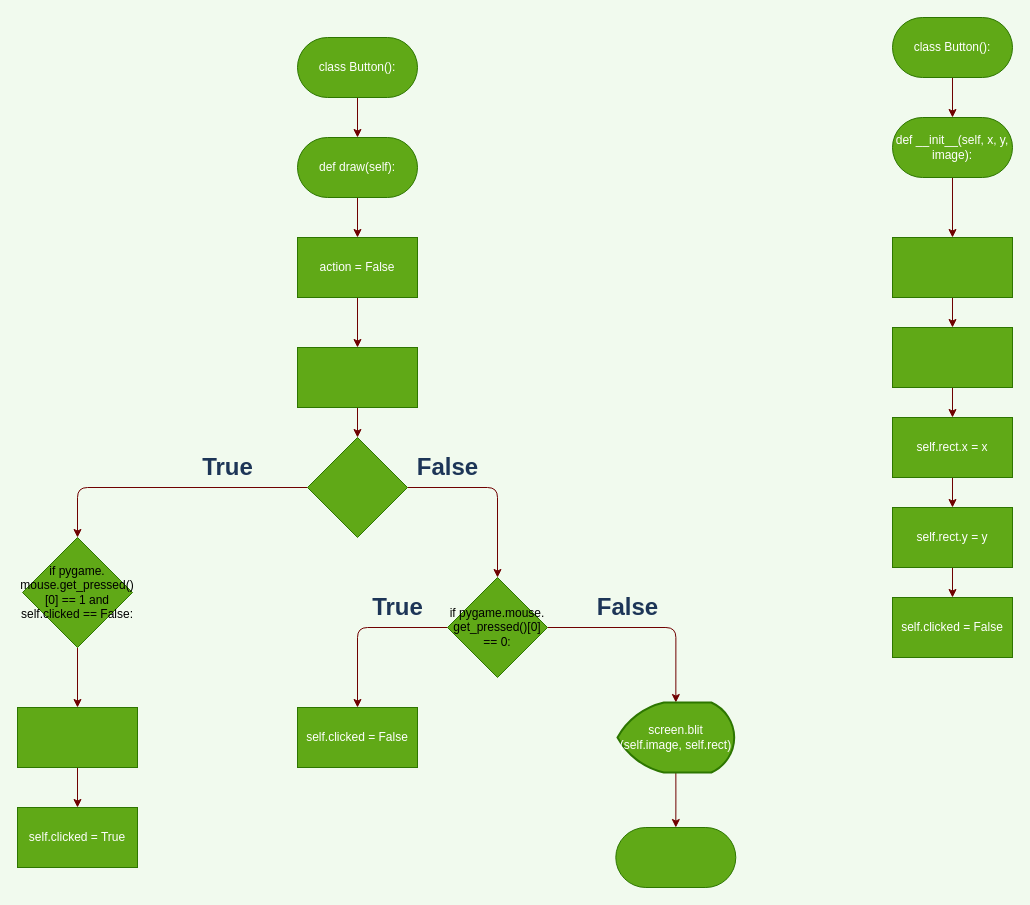
This 1030x905 diagram has some shape labels left out. Each missing label, with the centre of its shape:
"action = True" goes at point 77,737.
"if self.rect.collidepoint (pos):" goes at point 357,487.
"pos = pygame.mouse. get_pos()" goes at point 357,377.
"return action" goes at point 675,857.
"self.image = image" goes at point 952,267.
"self.rect = self.image.get_rect()" goes at point 952,357.
